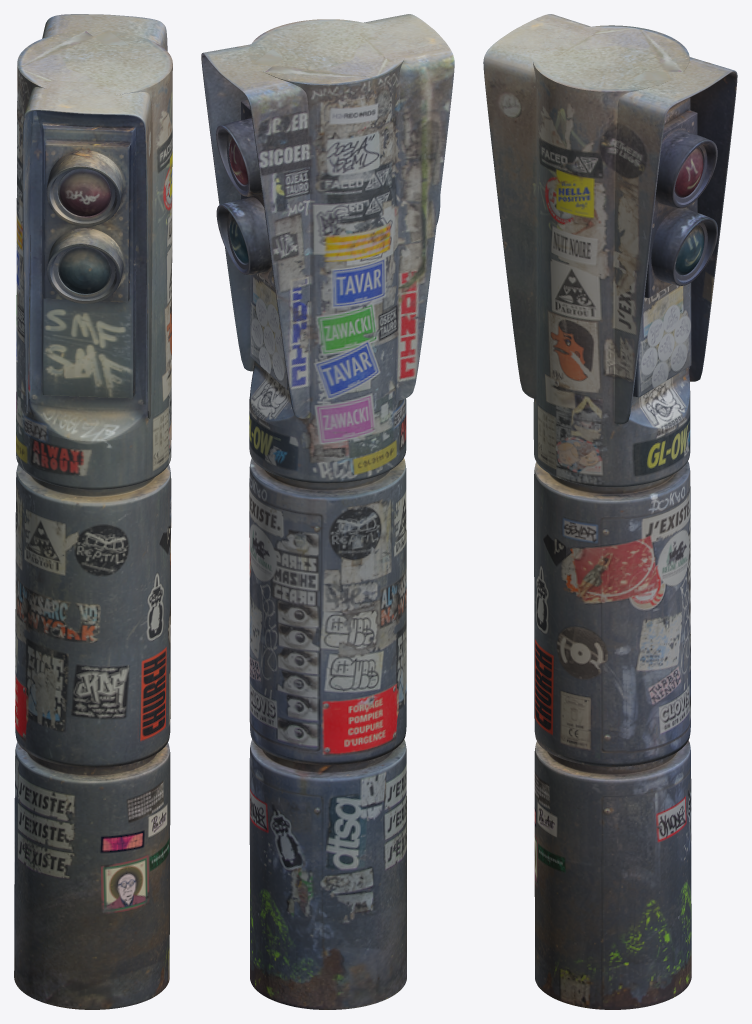
Rendered from tiezhiluden.glb.
The picture shows the model from 3 angles, left to right: view 1: azimuth 30°, elevation 25°; view 2: azimuth 150°, elevation 25°; view 3: azimuth 270°, elevation 25°; orthographic projection.
Visible parts, largest first — view 1: Object_2; view 2: Object_2; view 3: Object_2.
Part boxes in pixels (left/top/right/bottom): Object_2: left=14, top=14, right=172, bottom=1009; Object_2: left=201, top=14, right=454, bottom=1009; Object_2: left=483, top=14, right=737, bottom=1009.
Size of the model in its own units: 0.3831 by 1.7 by 0.4261.
Materials: 1 (1 with a texture image).
